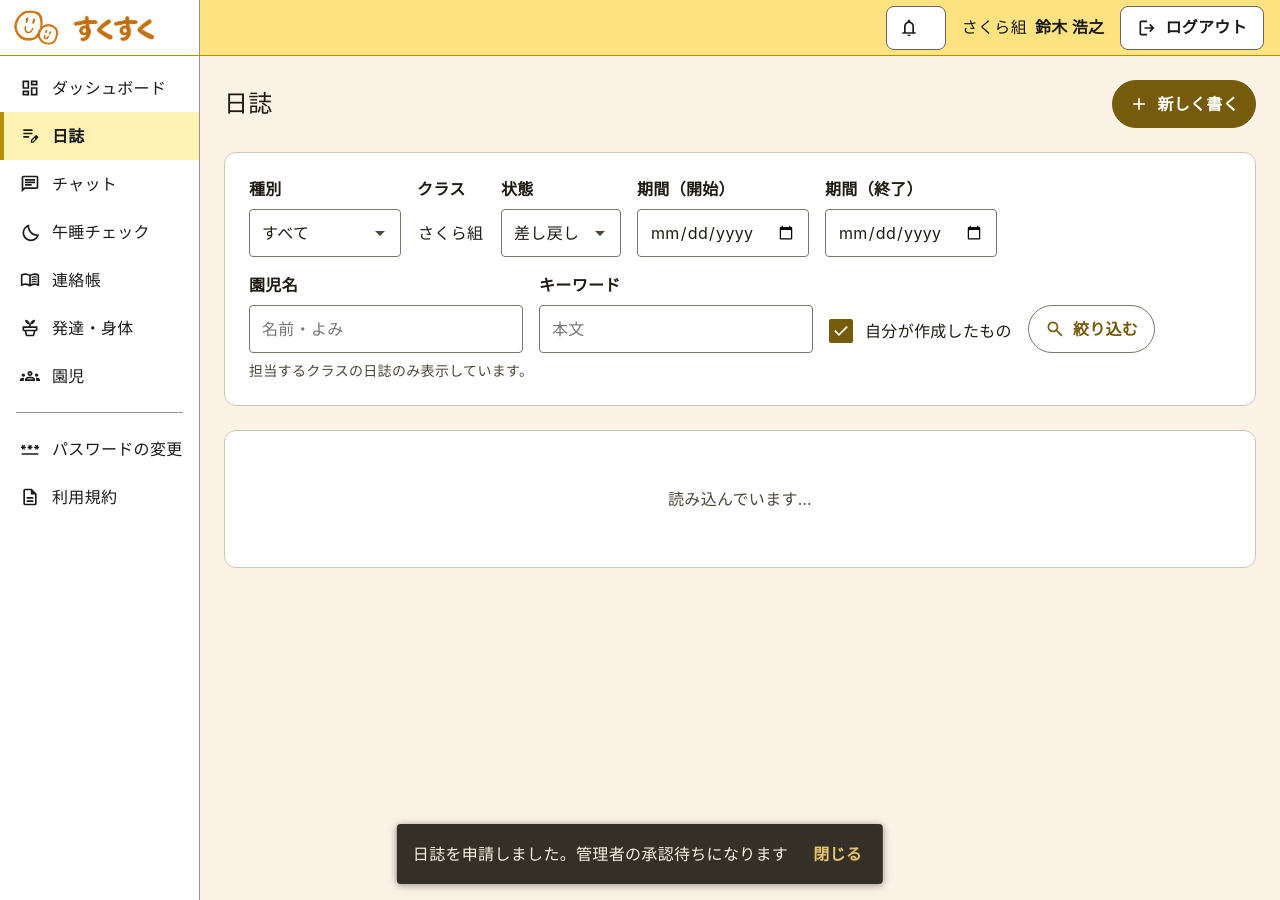
Scenario: サイドナビから日誌へ戻ると、ダッシュボード由来の条件が外れる
Check: the checkbox labelled "自分が作成したもの" is checked, box [829,319,853,343]
Click the link "日誌" at {"x": 100, "y": 136}, box [0,112,199,160]
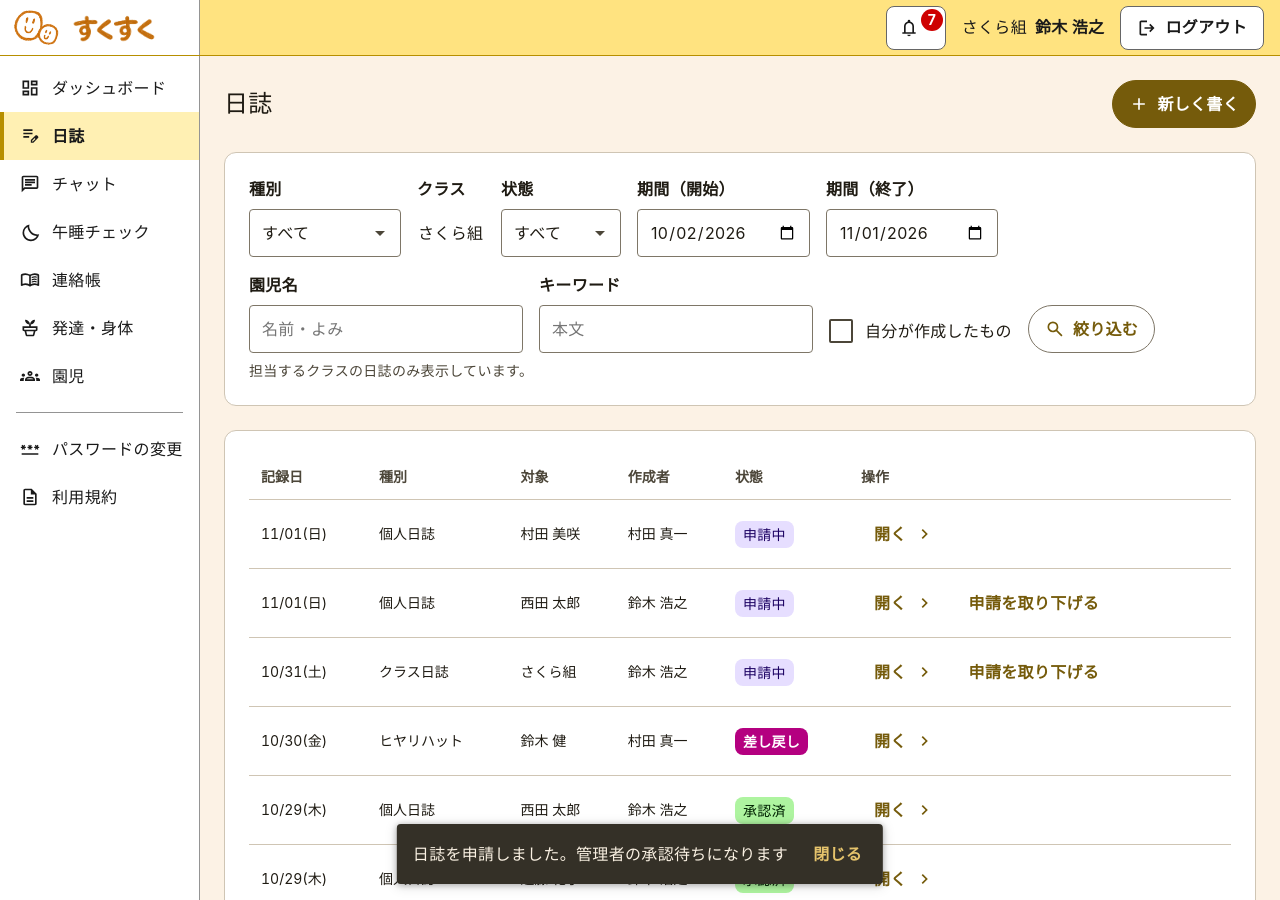
Check: the checkbox labelled "自分が作成したもの" is not checked, box [829,319,853,343]
Check: the dropdown labelled "状態" shows "すべて", box [501,209,621,257]
